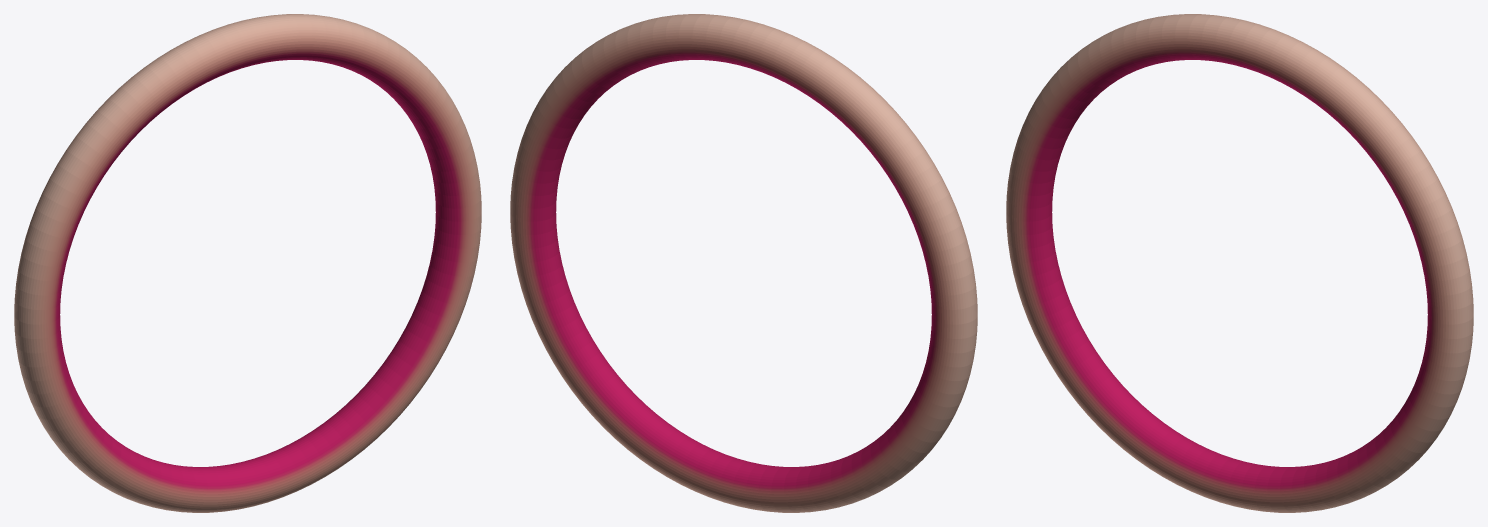
3 views of the same model, side by side, from view 1: azimuth 30°, elevation 25°; view 2: azimuth 150°, elevation 25°; view 3: azimuth 330°, elevation 25° (orthographic).
Visible parts, largest first — view 1: world; view 2: world; view 3: world.
Part boxes in pixels (x1,y1,x2,y2): world: [14, 14, 481, 512]; world: [510, 14, 977, 512]; world: [1006, 14, 1473, 512].
Bounding box in the file's own units: 26.27 × 26.27 × 2.26.
